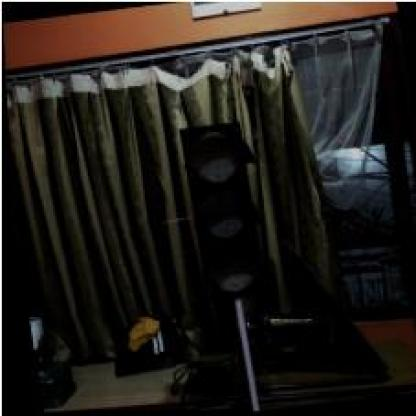yellow: (176, 120, 267, 301)
